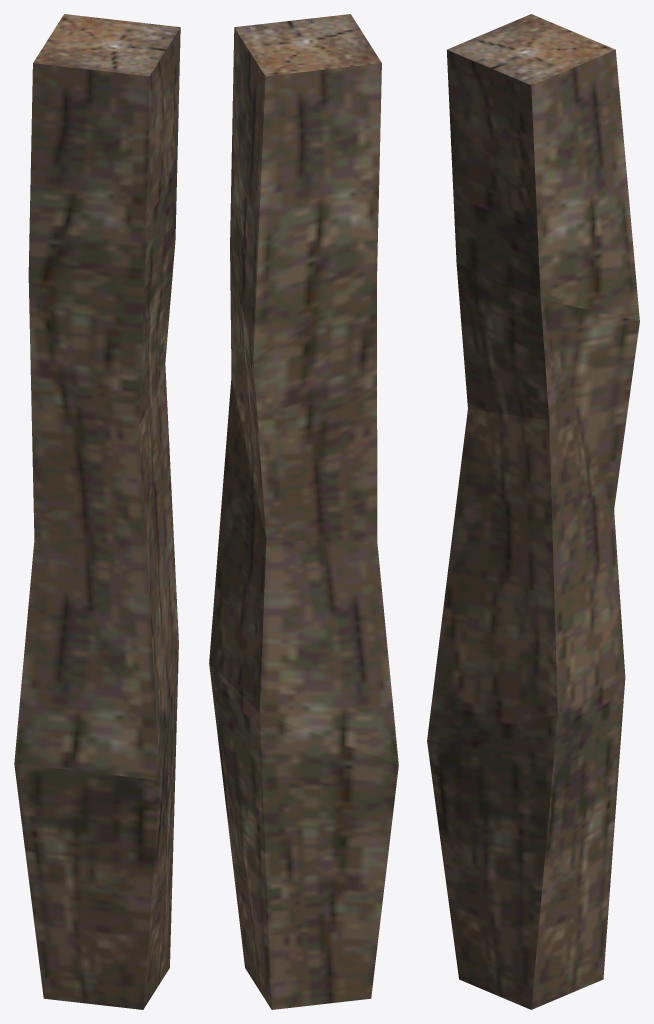
Rendered from wooden_fence_pole.fbx.
3 views of the same model, side by side, from view 1: azimuth 30°, elevation 25°; view 2: azimuth 150°, elevation 25°; view 3: azimuth 270°, elevation 25° (orthographic).
Visible parts, largest first — view 1: wooden_fence_pole; view 2: wooden_fence_pole; view 3: wooden_fence_pole.
Boxes of the visible parts, x1,y1,x2,y2 form: wooden_fence_pole: [14, 14, 180, 1009]; wooden_fence_pole: [209, 14, 398, 1009]; wooden_fence_pole: [427, 14, 639, 1009].
Size of the model in its own units: 23.7 by 120 by 24.88.
1 material, 1 textured.
